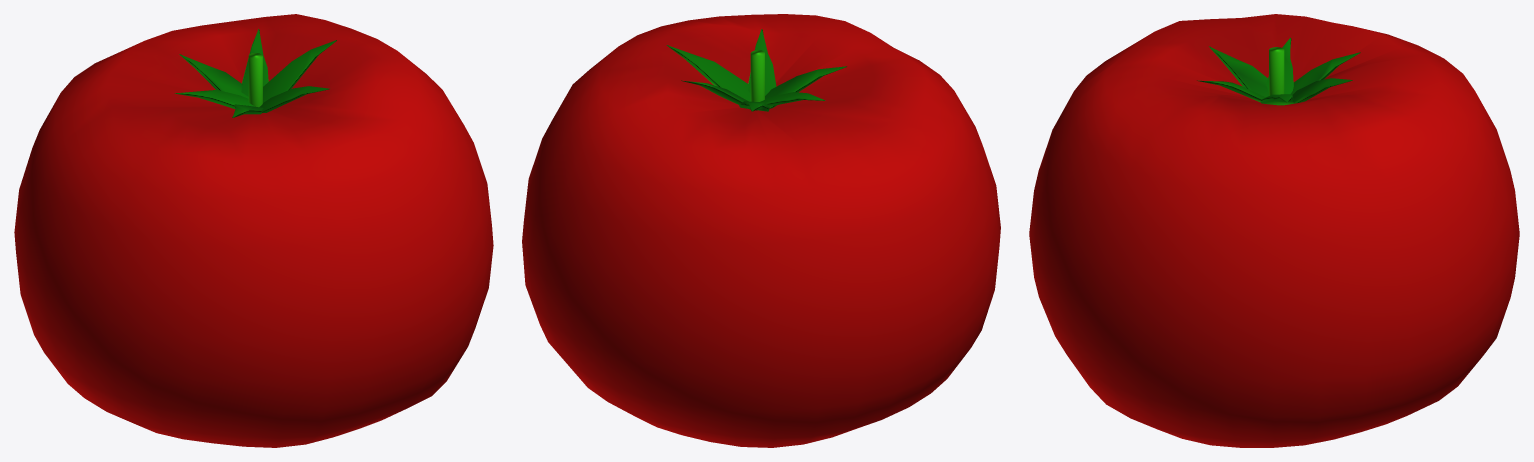
File: помидор (2).fbx
3 views of the same model, side by side, from view 1: azimuth 30°, elevation 25°; view 2: azimuth 150°, elevation 25°; view 3: azimuth 270°, elevation 25° (orthographic). The views are drawn at different scales.
Visible parts, largest first — view 1: Сфера, Куб.004, Куб.005, Цилиндр, Куб.001, Куб.003, Куб; view 2: Сфера, Куб.004, Куб.002, Цилиндр, Куб.003, Куб.001; view 3: Сфера, Куб.002, Цилиндр, Куб.005, Куб, Куб.001.
Part boxes in pixels (x1=…): Сфера: x1=14, y1=14, x2=493, y2=447; Куб.004: x1=263, y1=40, x2=336, y2=102; Куб.005: x1=179, y1=54, x2=248, y2=98; Цилиндр: x1=248, y1=53, x2=262, y2=107; Куб.001: x1=174, y1=90, x2=254, y2=108; Куб.003: x1=259, y1=86, x2=329, y2=112; Куб: x1=241, y1=29, x2=268, y2=96; Сфера: x1=522, y1=14, x2=1000, y2=447; Куб.004: x1=666, y1=45, x2=750, y2=101; Куб.002: x1=765, y1=66, x2=846, y2=108; Цилиндр: x1=750, y1=50, x2=764, y2=101; Куб.003: x1=748, y1=29, x2=776, y2=95; Куб.001: x1=759, y1=92, x2=825, y2=106; Сфера: x1=1029, y1=14, x2=1519, y2=447; Куб.002: x1=1209, y1=46, x2=1268, y2=97; Цилиндр: x1=1269, y1=47, x2=1284, y2=95; Куб.005: x1=1291, y1=52, x2=1360, y2=94; Куб: x1=1292, y1=78, x2=1352, y2=103; Куб.001: x1=1266, y1=37, x2=1293, y2=94.
Bounding box in the file's own units: 201 × 164 × 201.
